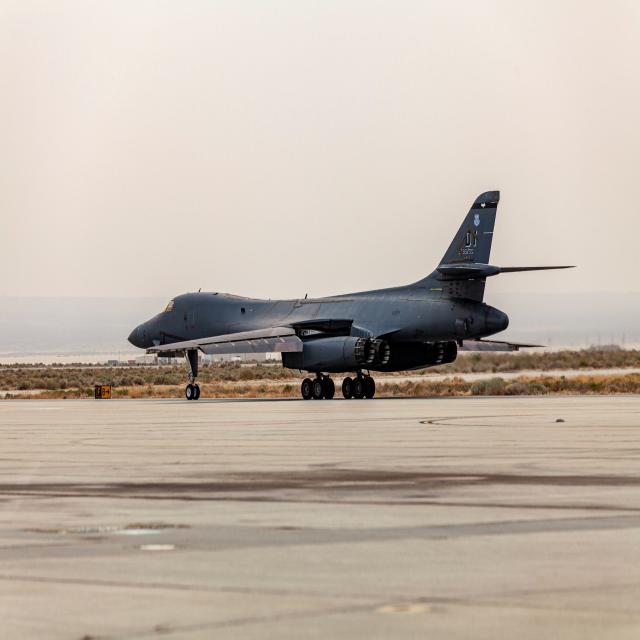B1: (103, 160, 582, 416)
